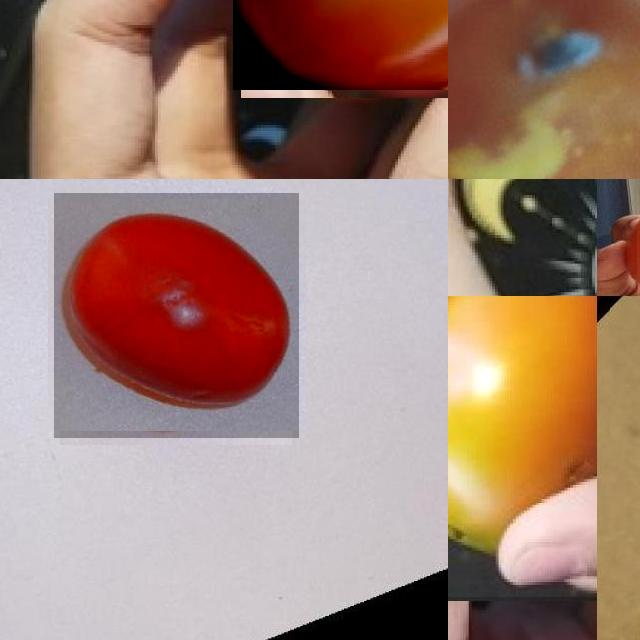0: (54, 193, 299, 438)
Rotten Tomato: (448, 296, 597, 596), (448, 0, 640, 179)
